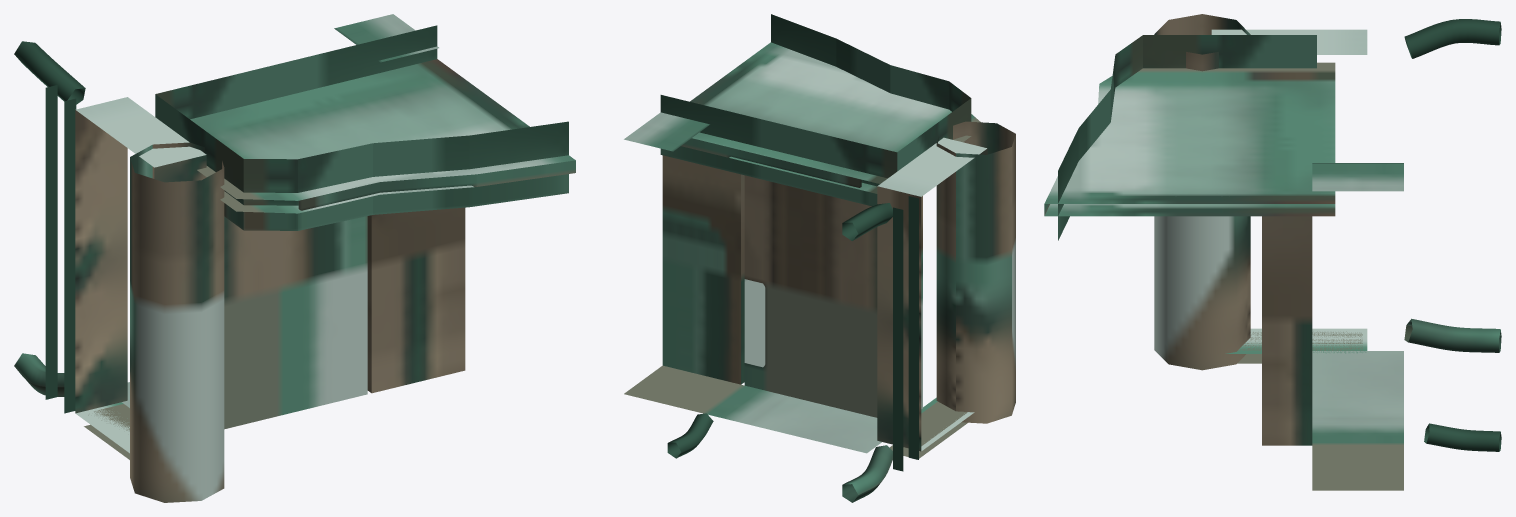
File: section-4.obj
3 renders of one model, left to right at view 1: azimuth 30°, elevation 25°; view 2: azimuth 150°, elevation 25°; view 3: azimuth 270°, elevation 25°, orthographic. The views are drawn at different scales.
Size of the model in its own units: 0.895 by 0.8086 by 0.998.
